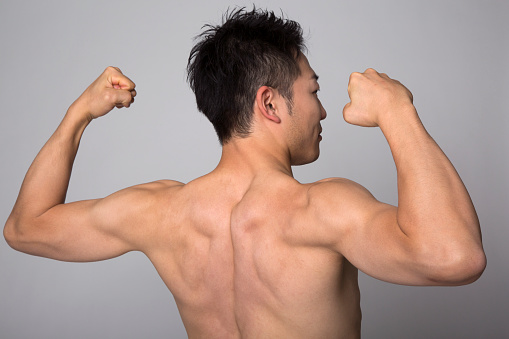em pe: (0, 39, 481, 339)
